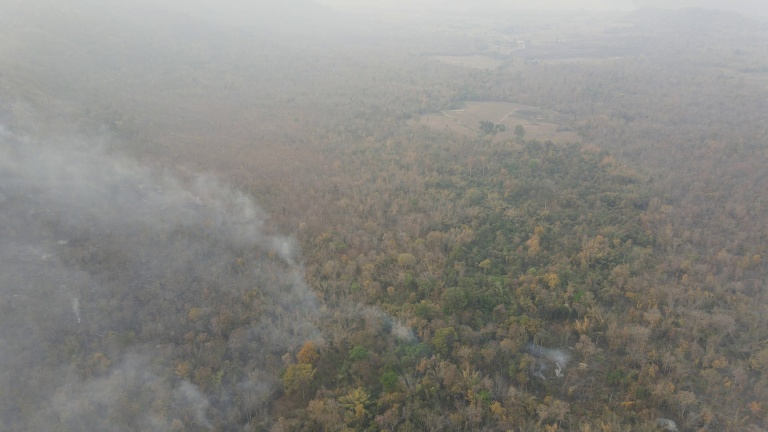smoke: (1, 85, 328, 430), (342, 296, 418, 347), (527, 342, 586, 383)
